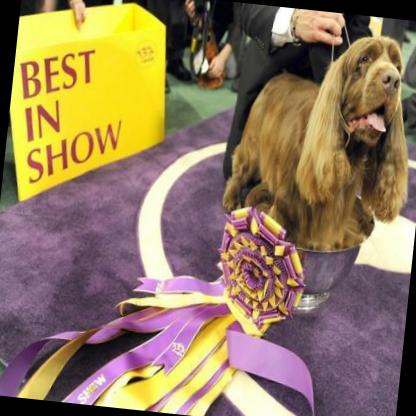Sussex_spaniel: (215, 18, 416, 259)
